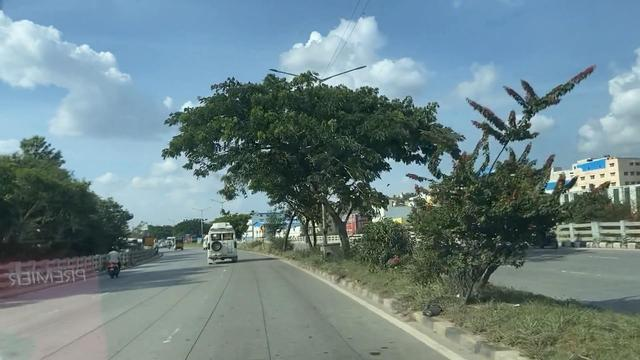HMV: (199, 216, 239, 261)
